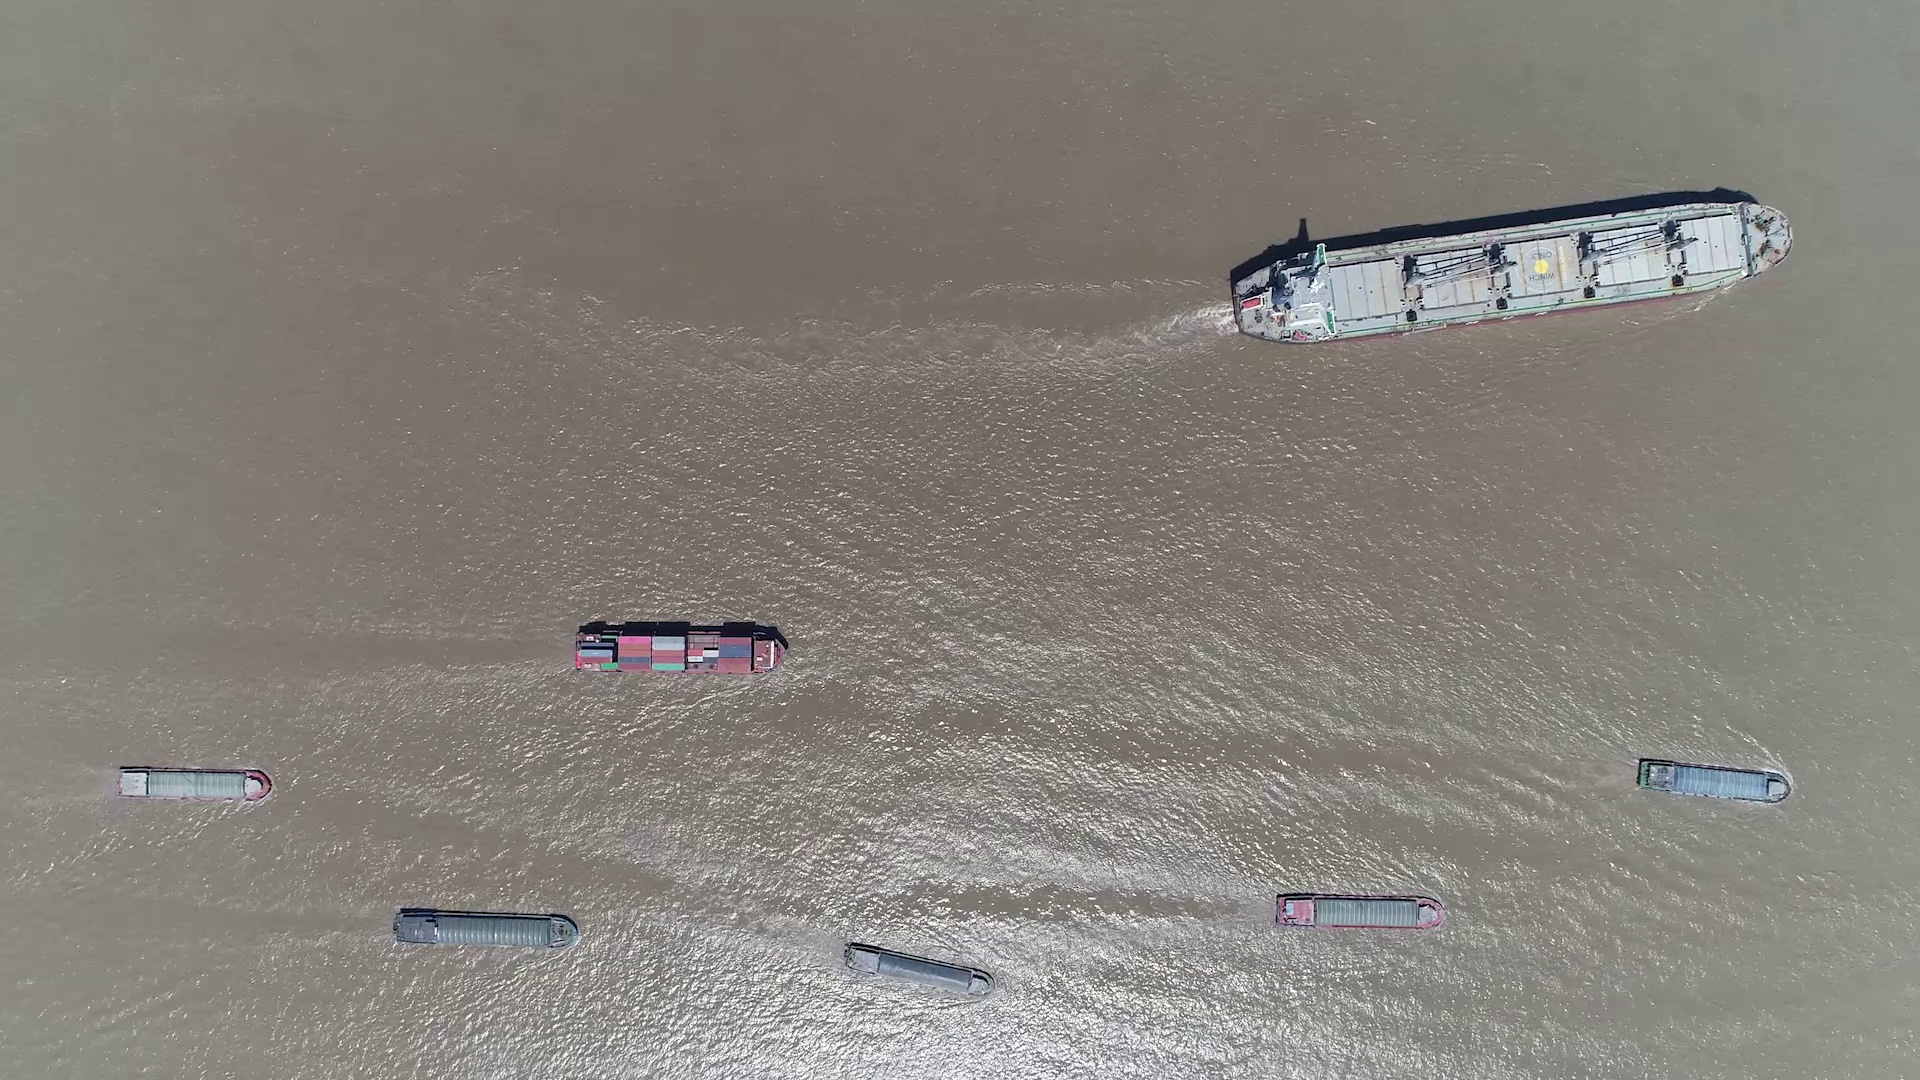ship: (1226, 200, 1792, 343), (574, 626, 786, 675), (844, 943, 994, 996), (392, 909, 576, 948), (1635, 758, 1791, 803), (1273, 893, 1447, 930), (116, 766, 272, 803)
